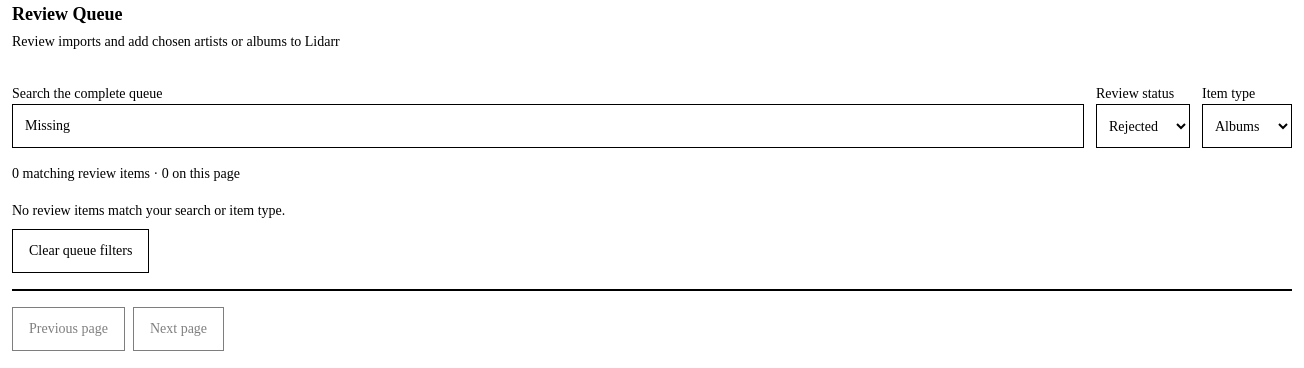
Test: replaces empty-state filter recovery
Click the button "Clear queue filters" at [81, 251], box [12,229,149,273]
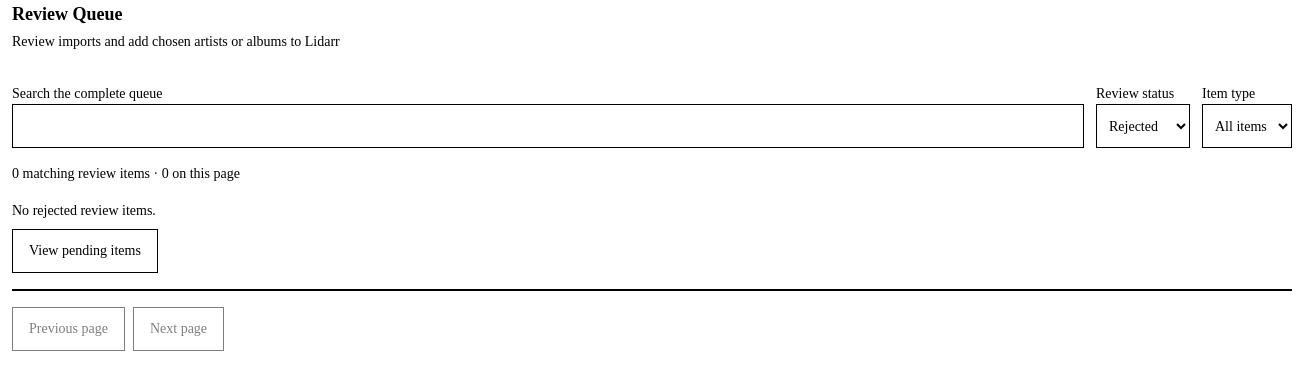
Expected: the button "View pending items" is shown
Click the button "View pending items" at [85, 251], box [12,229,158,273]
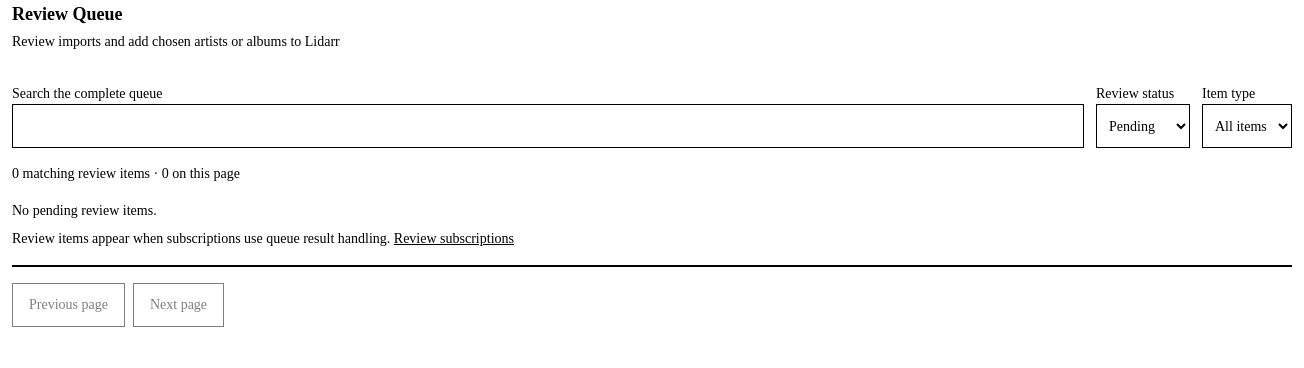
Expected: the text "No pending review items." is shown, [12,203,157,218]
